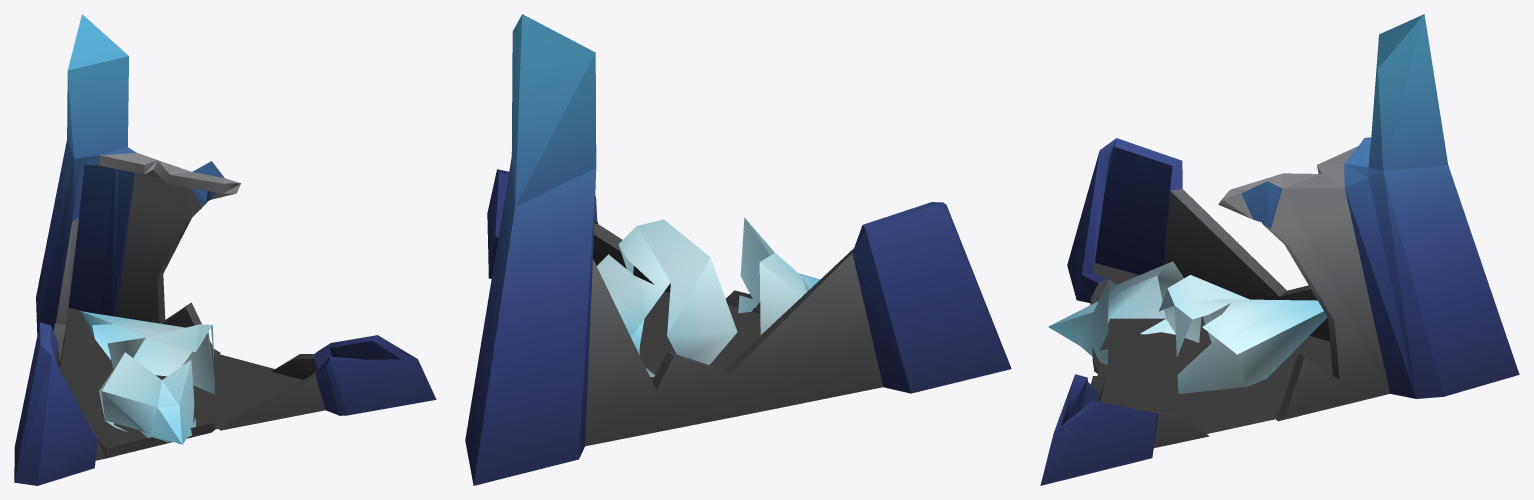
The model's file is mageTowerL1Destroyed_mdl.FBX.
3 renders of one model, left to right at view 1: azimuth 30°, elevation 25°; view 2: azimuth 150°, elevation 25°; view 3: azimuth 270°, elevation 25°, orthographic. The views are drawn at different scales.
Parts seen in each view (by area): view 1: tower_mageL1Destroyed_mdl, tower_mageL1CrystalDestroyed_mdl; view 2: tower_mageL1Destroyed_mdl, tower_mageL1CrystalDestroyed_mdl; view 3: tower_mageL1Destroyed_mdl, tower_mageL1CrystalDestroyed_mdl.
Part boxes in pixels (x1,y1,x2,y2): tower_mageL1Destroyed_mdl: [14, 14, 436, 485]; tower_mageL1CrystalDestroyed_mdl: [80, 311, 215, 444]; tower_mageL1Destroyed_mdl: [465, 14, 1011, 485]; tower_mageL1CrystalDestroyed_mdl: [596, 217, 819, 376]; tower_mageL1Destroyed_mdl: [1040, 14, 1519, 485]; tower_mageL1CrystalDestroyed_mdl: [1048, 261, 1327, 393].
Bounding box in the file's own units: 56.23 × 43.67 × 49.79.
